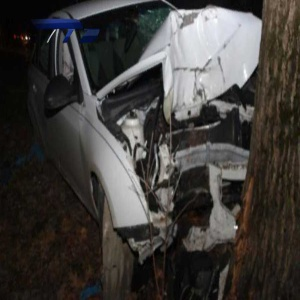door_scratch: (183, 134, 238, 236)
